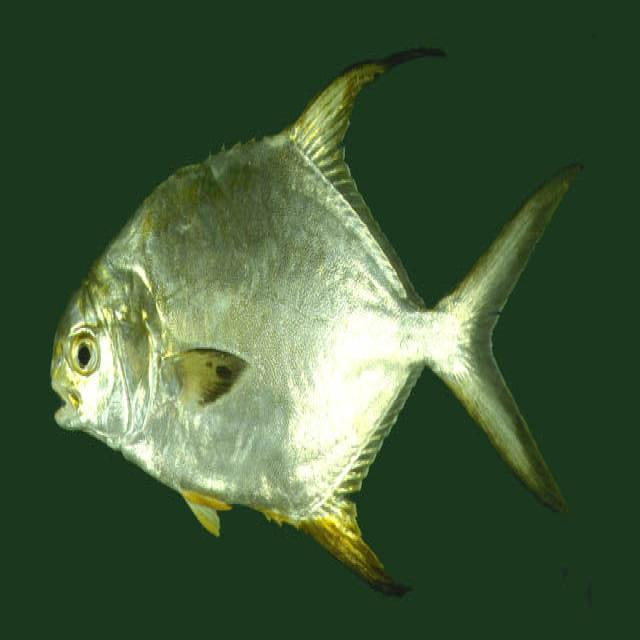ikan: (38, 28, 584, 620)
